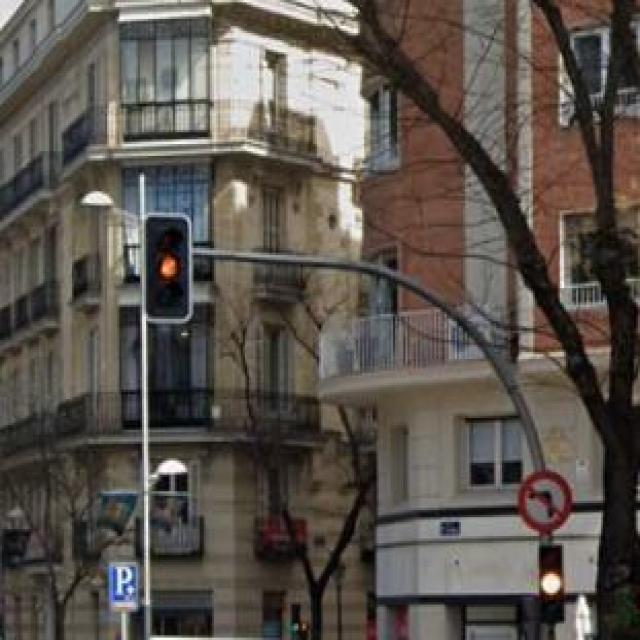yellow_light: (145, 213, 192, 319)
